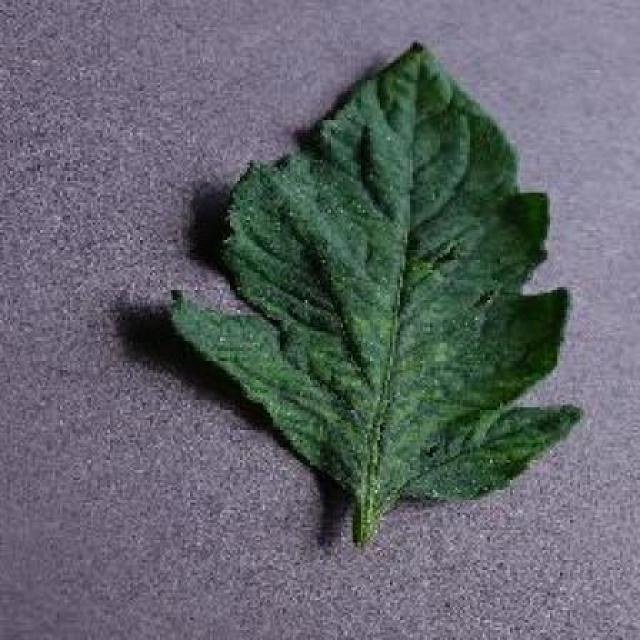Mosaic Virus: (157, 33, 589, 508)
